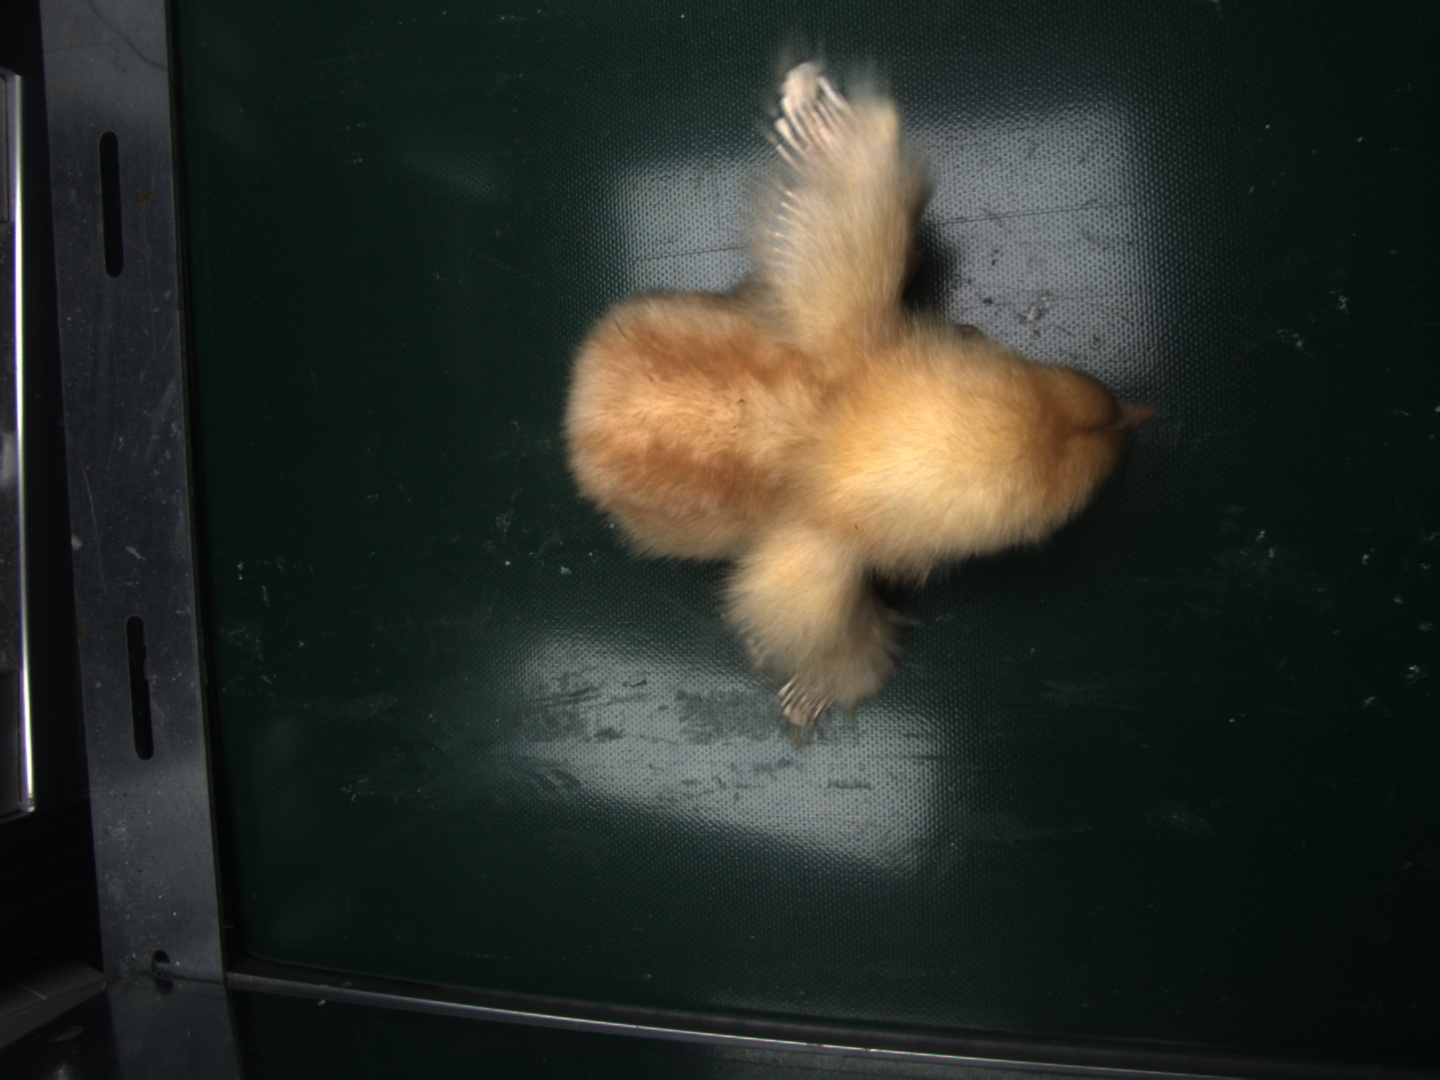female: (779, 675, 835, 722)
